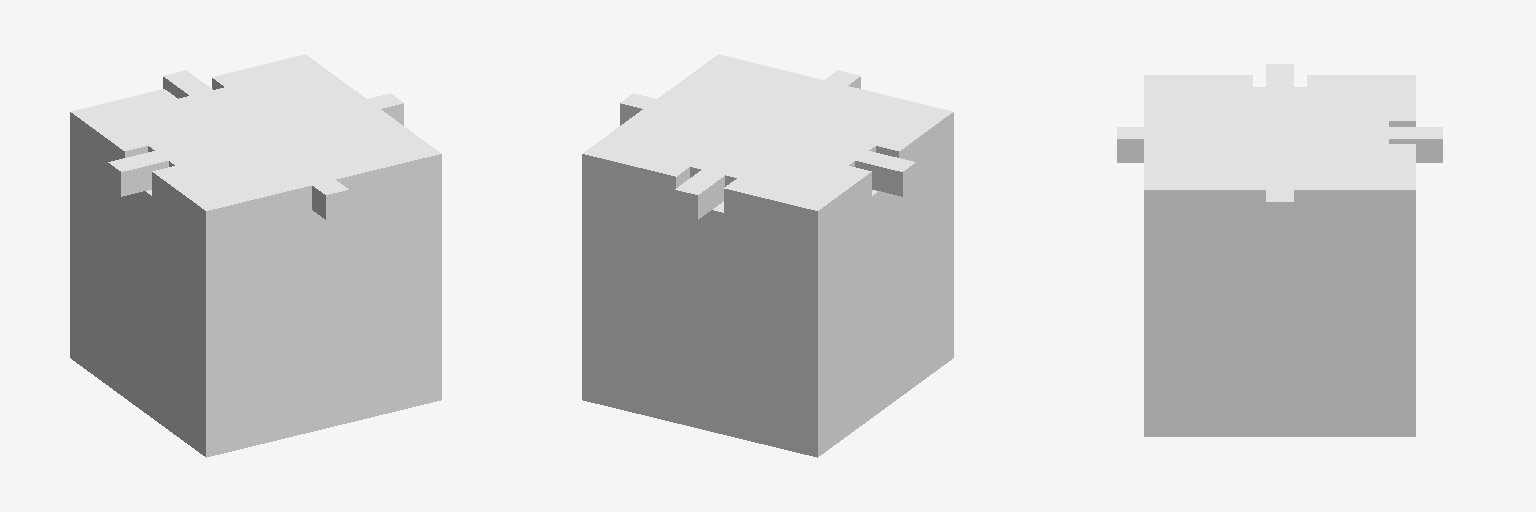
Rendered from Ground2Turn.obj.
3 views of the same model, side by side, from view 1: azimuth 30°, elevation 25°; view 2: azimuth 150°, elevation 25°; view 3: azimuth 270°, elevation 25° (orthographic).
Parts seen in each view (by area): view 1: object 1; view 2: object 1; view 3: object 1.
Part boxes in pixels (bbox=[...]): object 1: bbox=[70, 54, 441, 457]; object 1: bbox=[582, 54, 953, 457]; object 1: bbox=[1117, 64, 1442, 436].
Size of the model in its own units: 2.4 by 2 by 2.4.